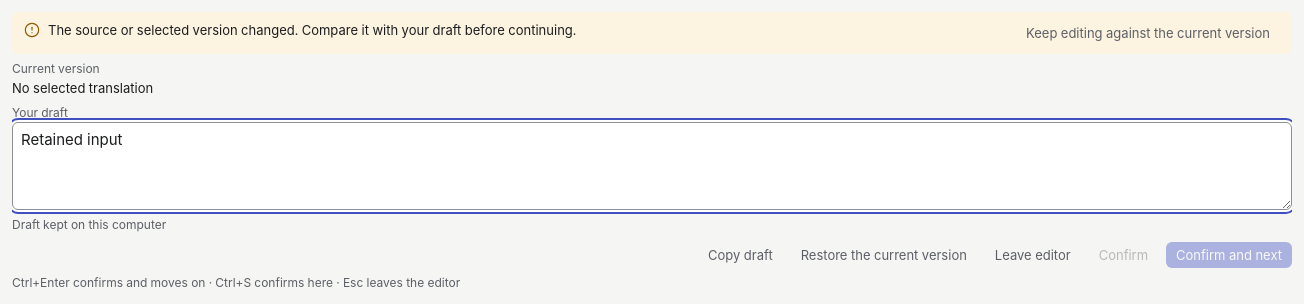
Test: shows current selection null separately and rebases without replacing input
Expected: the text "No selected translation" is shown, [12,80,153,96]
Expected: the text box named "Translation for dialogue.hello" holds "Retained input", [12,122,1292,210]
Click the button "Keep editing against the current version".
click(1148, 33)  # box [1016,20,1280,46]
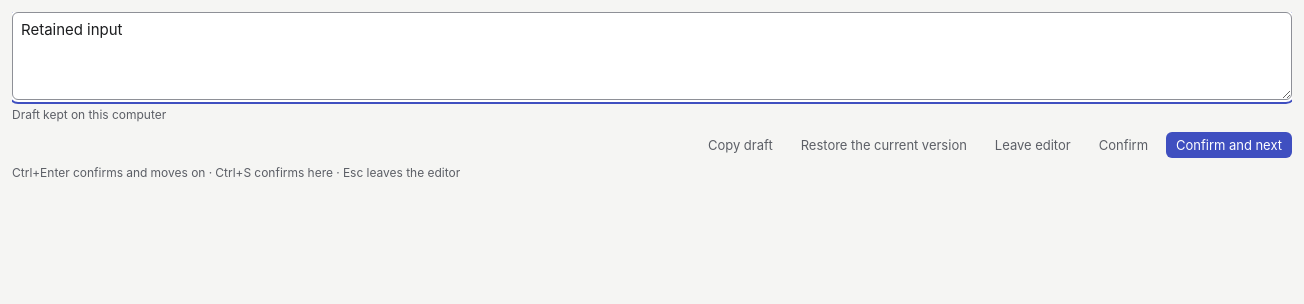
Expected: the text box named "Translation for dialogue.hello" holds "Retained input", [12,12,1292,100]
Now the text "The source or selected version changed. Compare it with your draft before continuing." is gone
Now the button "Confirm" is enabled, box [1089,132,1158,158]
